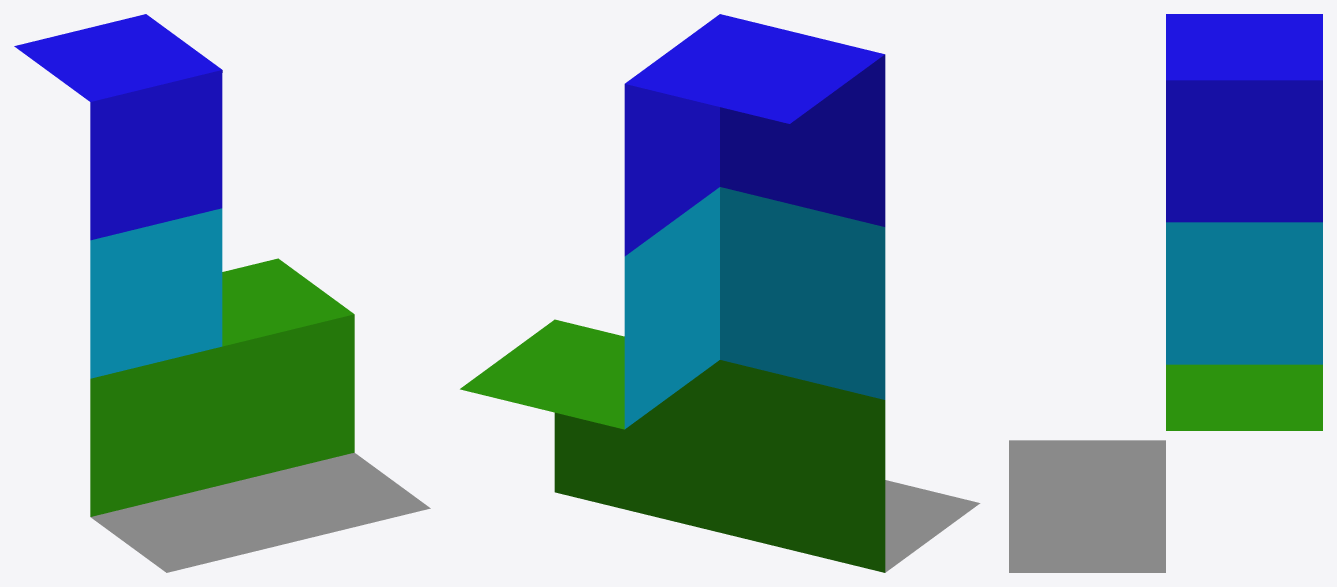
3 views of the same model, side by side, from view 1: azimuth 30°, elevation 25°; view 2: azimuth 150°, elevation 25°; view 3: azimuth 270°, elevation 25° (orthographic). The views are drawn at different scales.
Visible parts, largest first — view 1: T_223_0_0; view 2: T_223_0_0; view 3: T_223_0_0.
Part boxes in pixels (x1=…): T_223_0_0: x1=14, y1=14, x2=430, y2=572; T_223_0_0: x1=460, y1=14, x2=980, y2=572; T_223_0_0: x1=1009, y1=14, x2=1322, y2=572.
Bounding box in the file's own units: 99.79 × 150 × 99.81.
